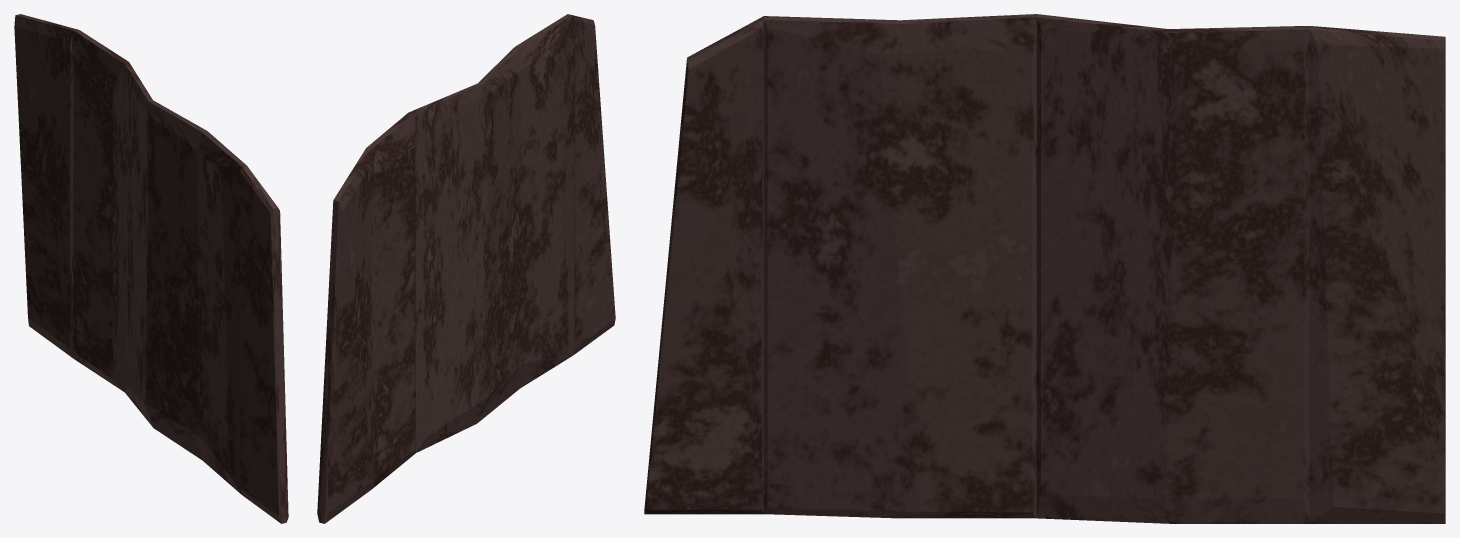
The model's file is ZinkPlate 1.fbx.
The picture shows the model from 3 angles, left to right: view 1: azimuth 30°, elevation 25°; view 2: azimuth 150°, elevation 25°; view 3: azimuth 270°, elevation 25°; orthographic projection. The views are drawn at different scales.
Parts seen in each view (by area): view 1: Cube; view 2: Cube; view 3: Cube.
Part boxes in pixels (x1,y1,x2,y2): Cube: (14, 14, 288, 523); Cube: (317, 14, 615, 523); Cube: (644, 14, 1445, 523).
Size of the model in its own units: 37.37 by 400 by 588.
Materials: 1 (1 with a texture image).
